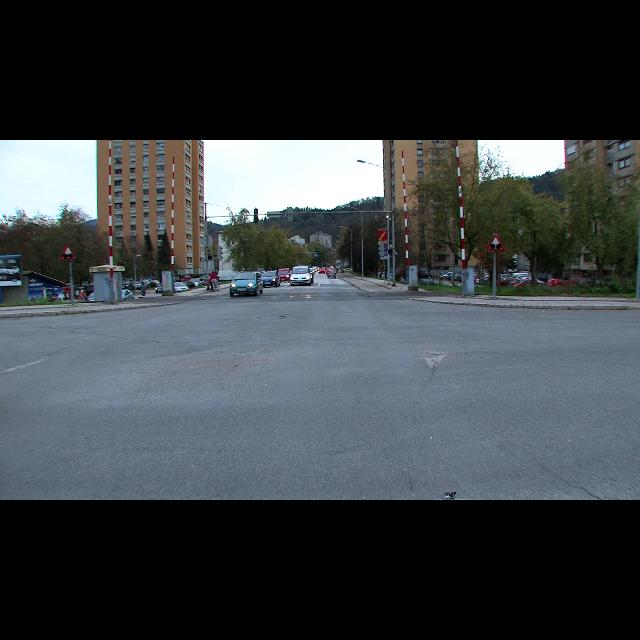Triangle: (488, 232, 504, 252), (60, 244, 76, 262)
